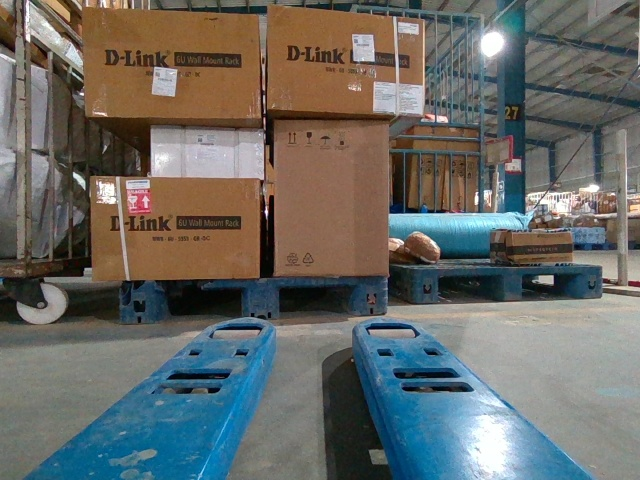block: (120, 278, 161, 324), (244, 275, 281, 320), (412, 269, 438, 300), (577, 267, 600, 297), (501, 267, 519, 301)
front: (123, 277, 386, 324), (409, 268, 605, 302)
hole pallet: (154, 281, 247, 324), (274, 279, 361, 313), (435, 269, 507, 300), (520, 270, 587, 302)
